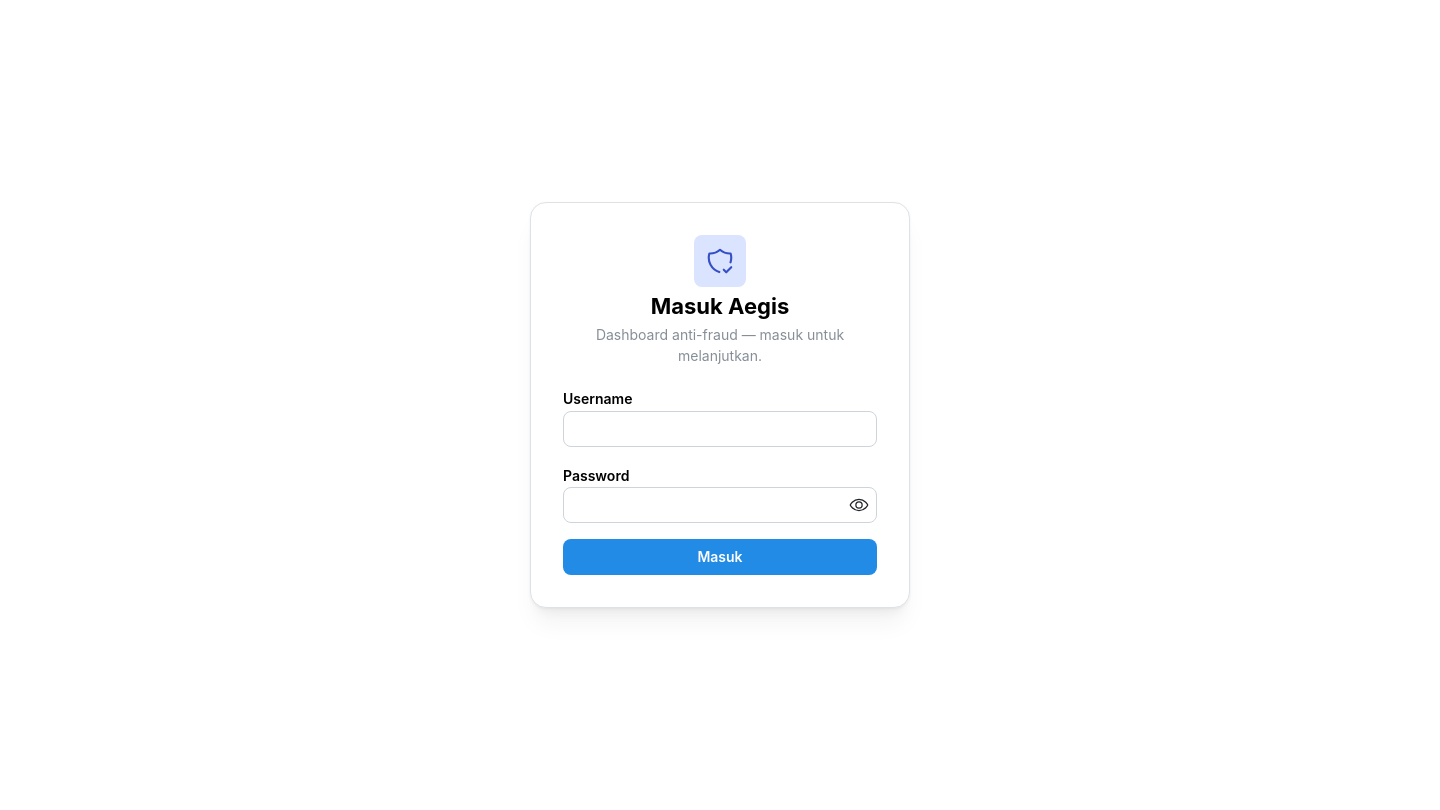
Test case: AC-DASH-01 auth & role › login → set cookie (server) & masuk dashboard
Type "admin" into the field labelled "Username".
click(720, 429); type("admin")  # box [563,411,877,447]
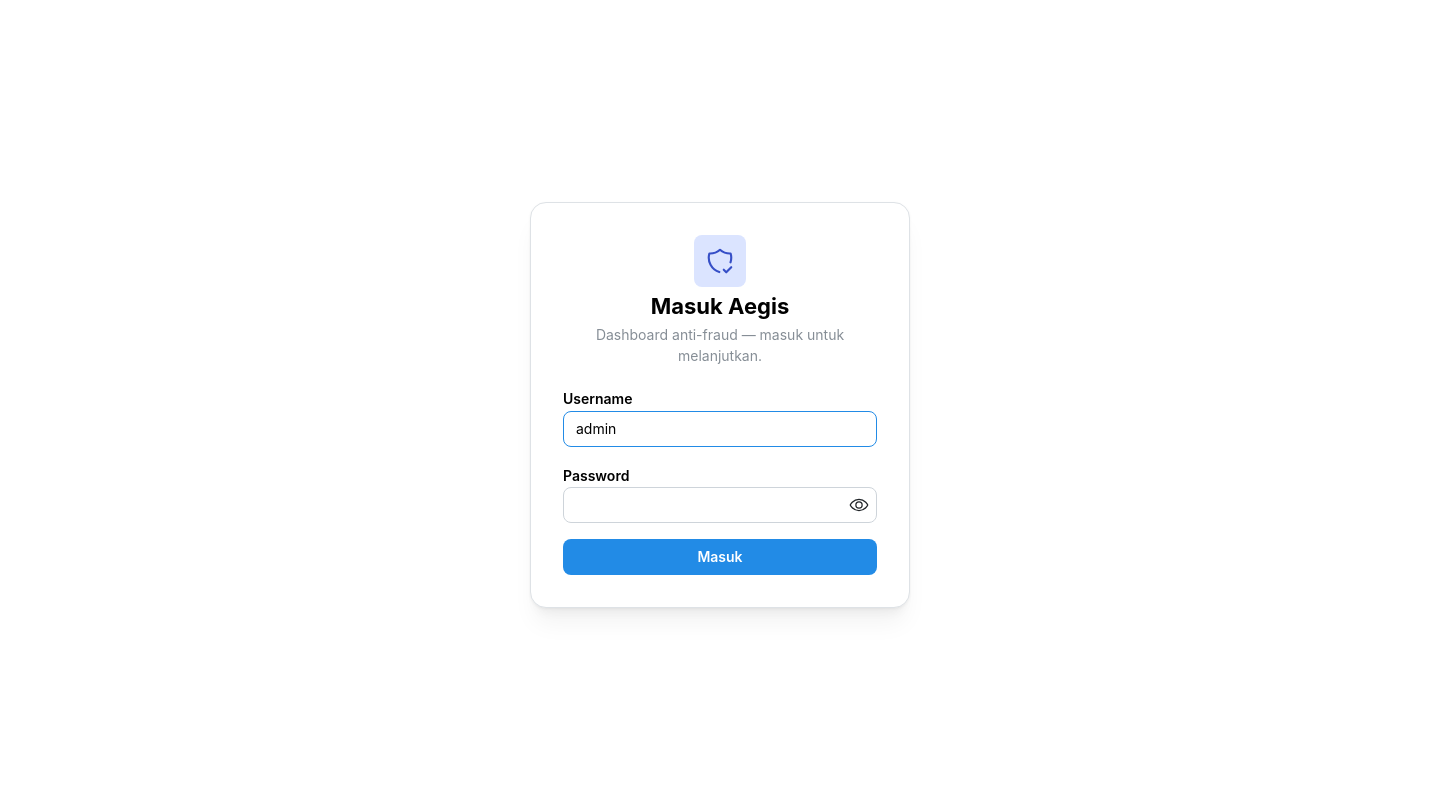
Type "secret" into the password field labelled "Password".
click(720, 506); type("secret")  # box [564,488,876,522]
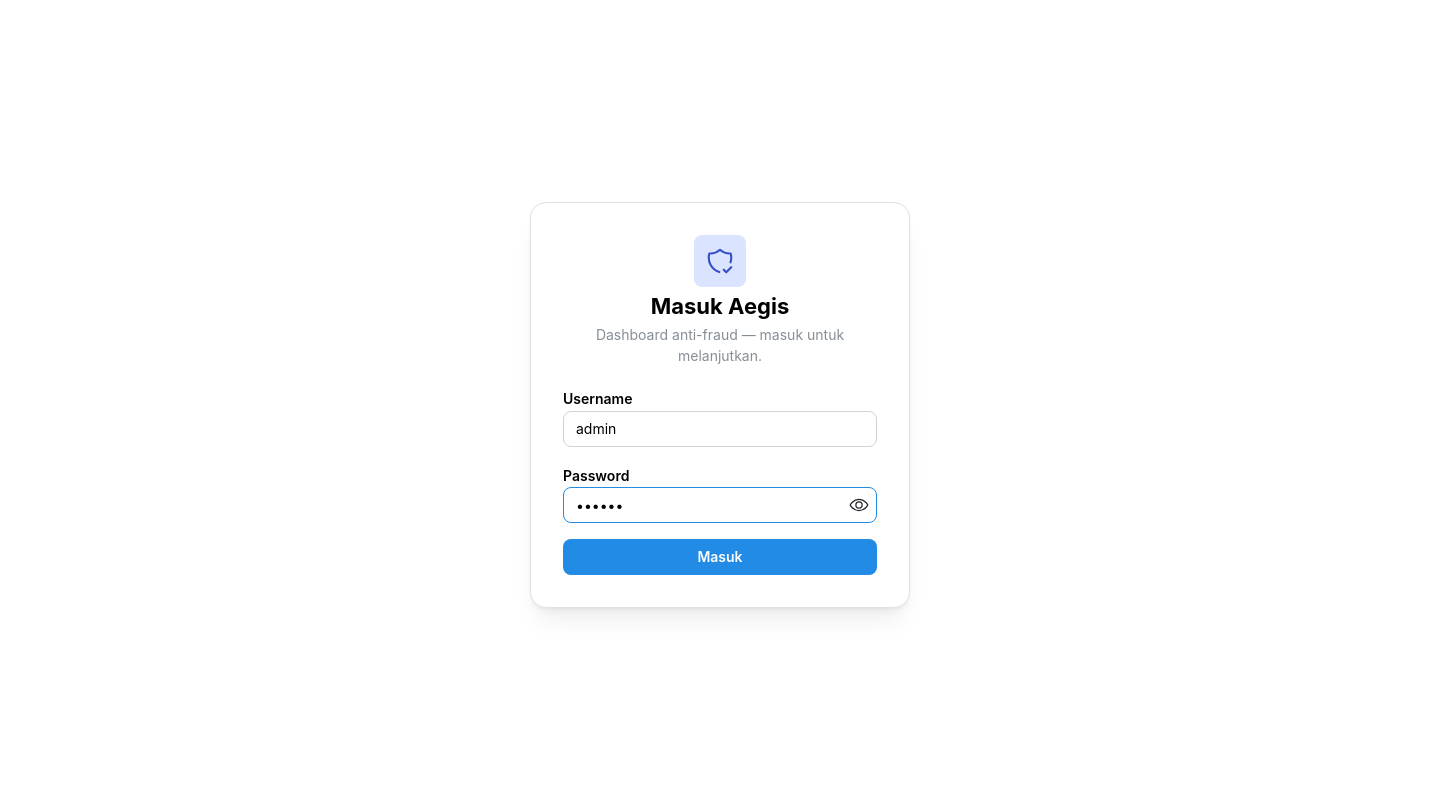
Click the button "Masuk".
click(720, 558)  # box [563,540,877,576]
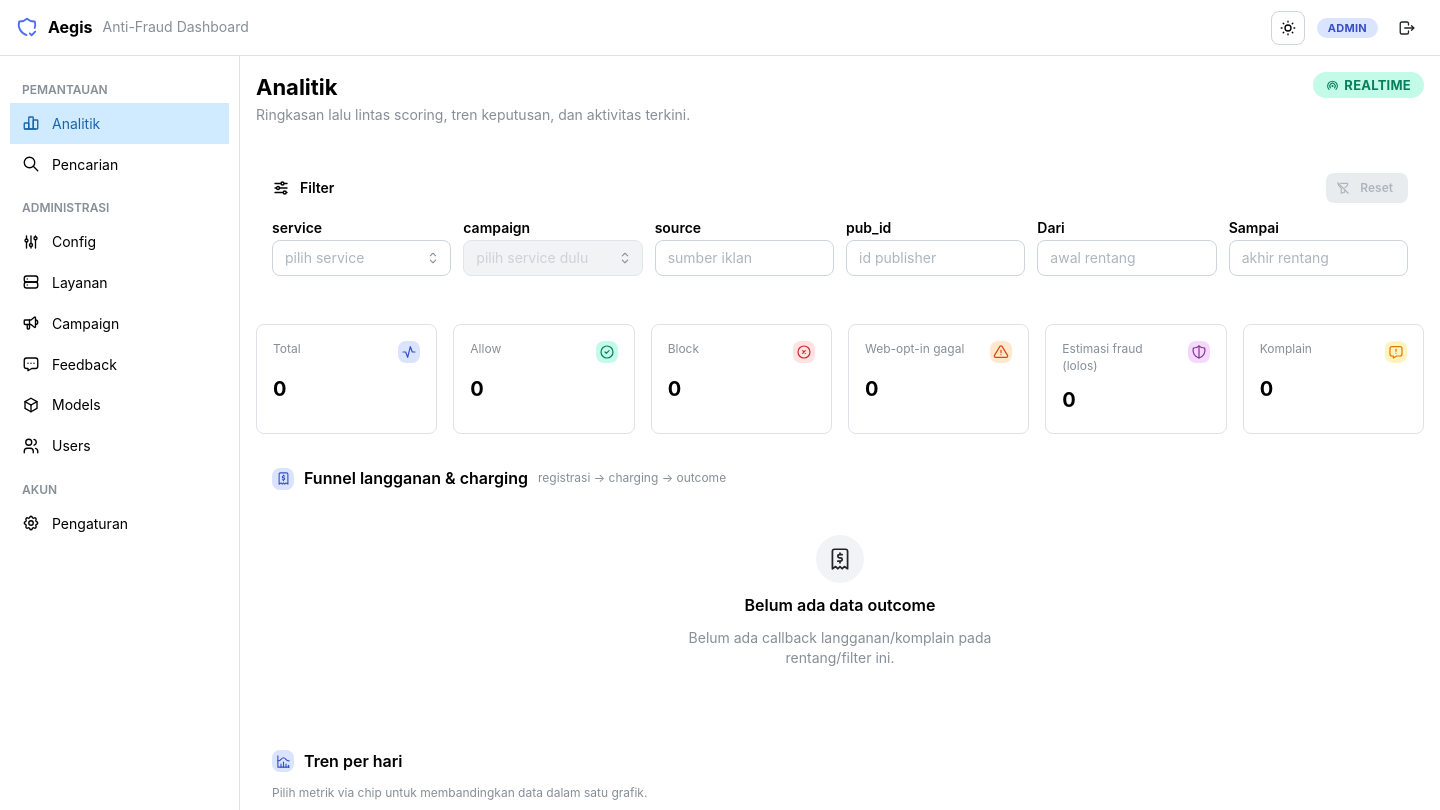
Result: the heading "Analitik" is shown at [256,74,338,100]
